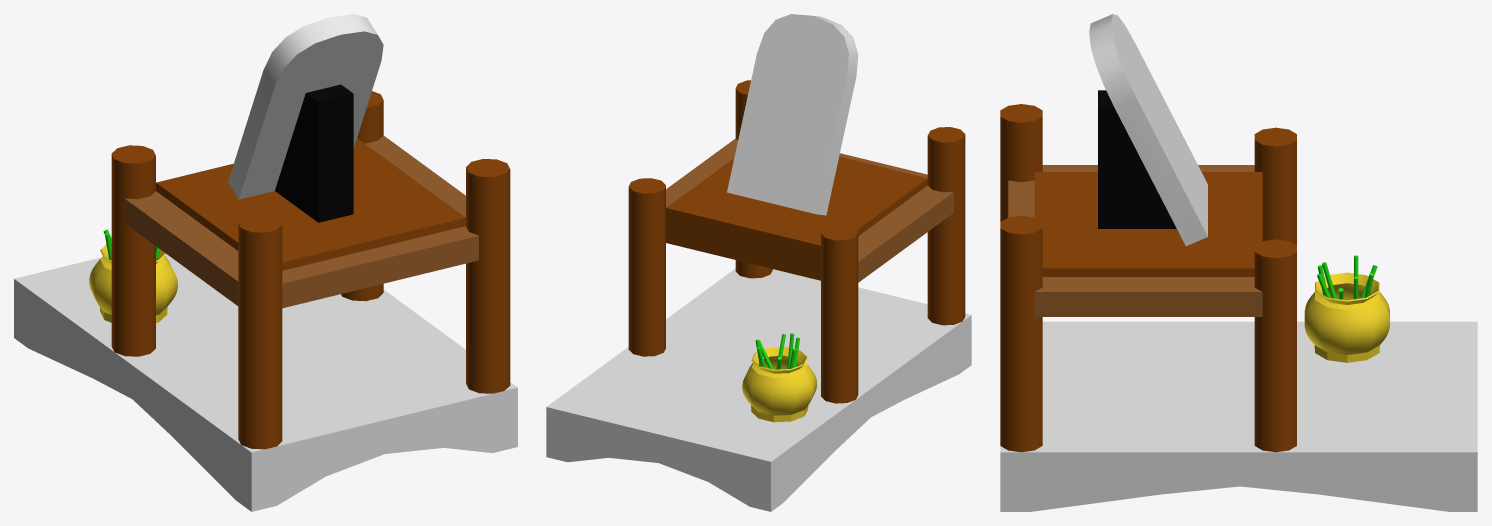
File: Autel.FBX
3 views of the same model, side by side, from view 1: azimuth 30°, elevation 25°; view 2: azimuth 150°, elevation 25°; view 3: azimuth 270°, elevation 25° (orthographic). The views are drawn at different scales.
Visible parts, largest first — view 1: Box009, Cylinder004, Box001, Box010, Box012, Box004, Box002, Cylinder005, Box003; view 2: Box009, Cylinder004, Box010, Box001, Box002, Cylinder005, Box003; view 3: Box009, Cylinder004, Box001, Box010, Box003, Box012, Cylinder005, Box004, Box002.
Part boxes in pixels (x1,y1,x2,y2): Box009: (14,254,517,511); Cylinder004: (111,91,510,449); Box001: (156,138,465,270); Box010: (228,14,383,199); Box012: (275,84,353,222); Box004: (282,226,478,308); Box002: (124,191,238,305); Cylinder005: (89,244,177,322); Box003: (365,135,465,217); Box009: (546,268,971,511); Cylinder004: (628,80,965,403); Box010: (727,14,858,215); Box001: (666,156,927,280); Box002: (858,185,953,282); Cylinder005: (742,347,816,422); Box003: (666,138,737,207); Box009: (1000,321,1477,511); Cylinder004: (1000,104,1296,452); Box001: (1034,172,1262,276); Box010: (1089,14,1207,245); Box003: (1034,277,1262,316); Box012: (1098,90,1176,228); Cylinder005: (1304,272,1389,362); Box004: (1008,180,1034,217); Box002: (1042,165,1254,171).
Bounding box in the file's own units: 81.3 × 123 × 126.
